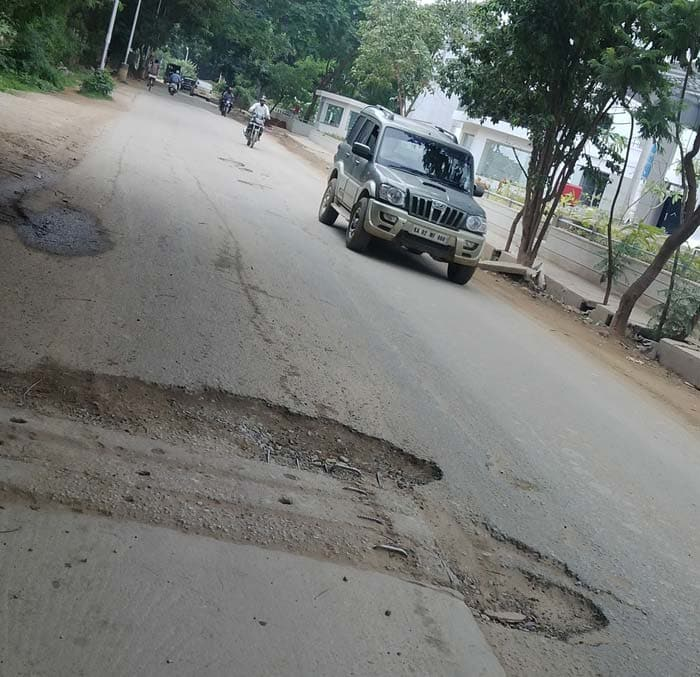pothole: (14, 339, 644, 654)
